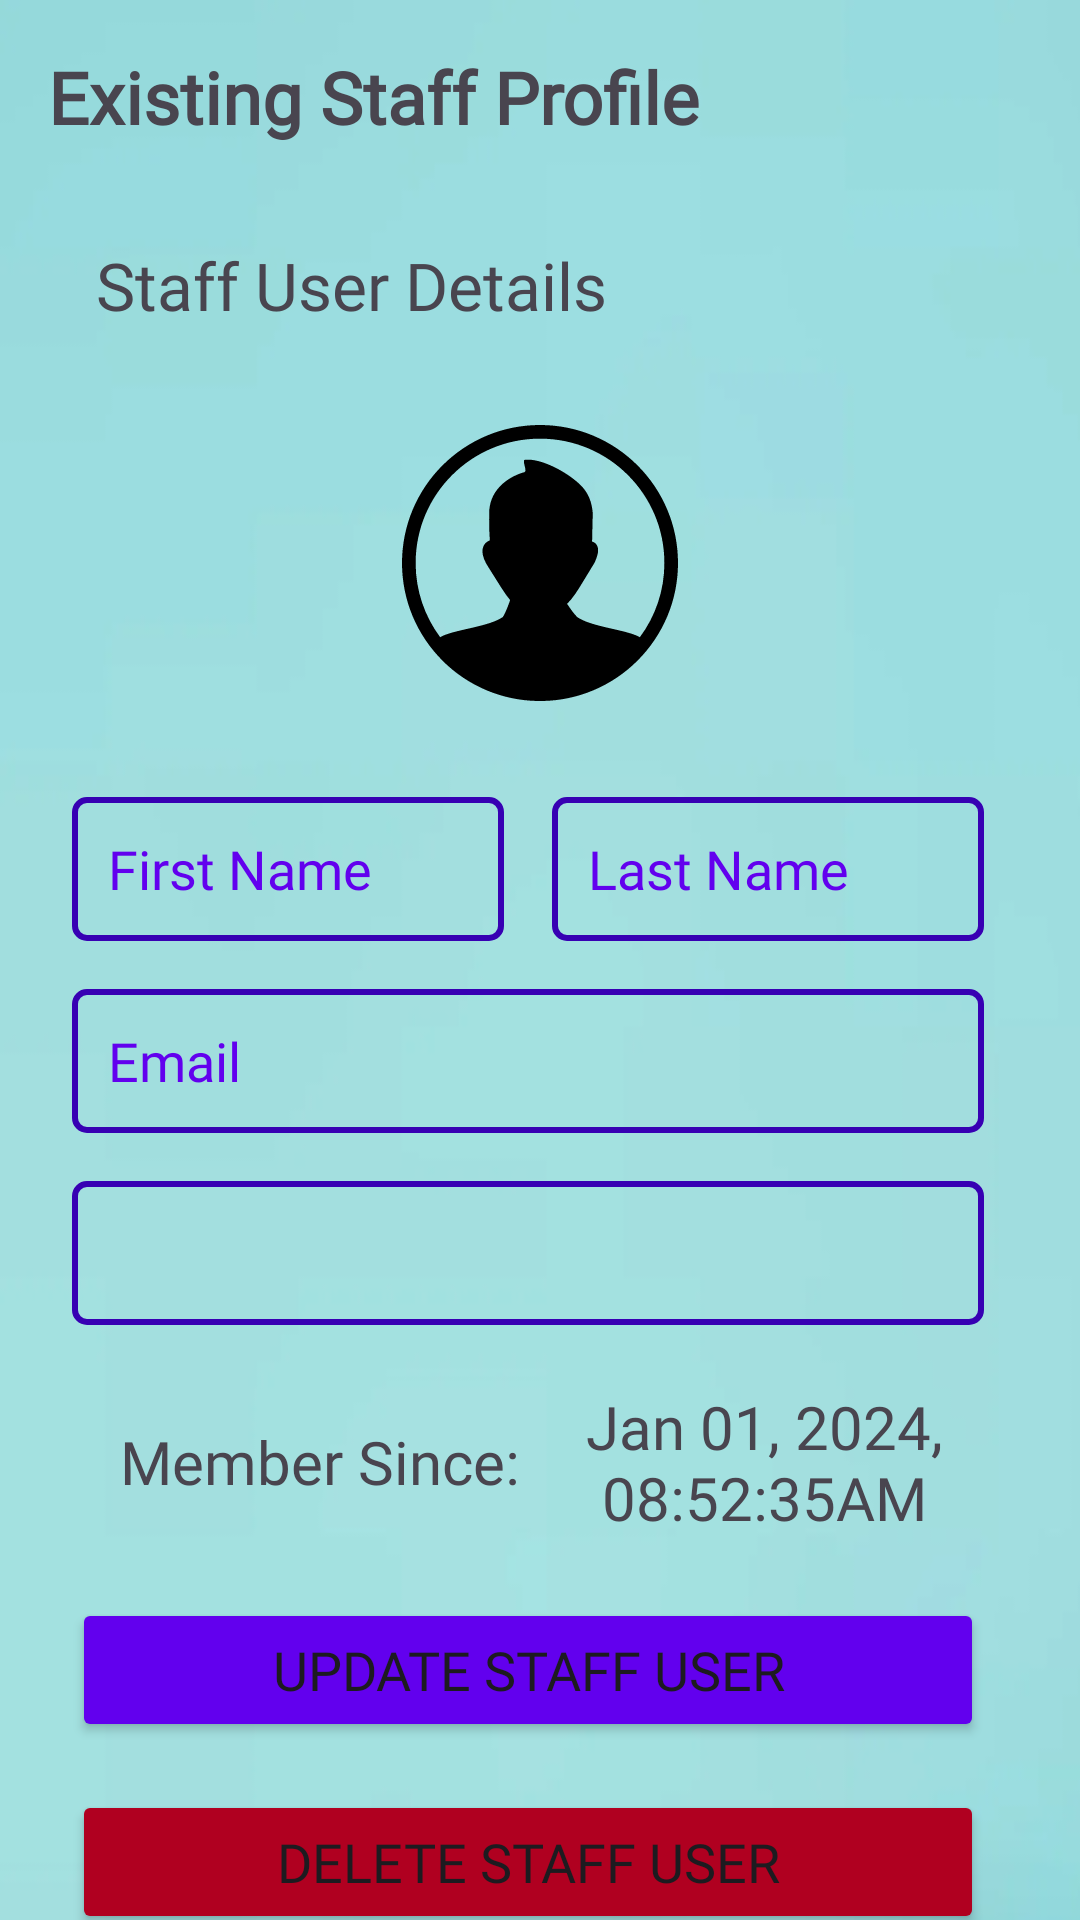

Screen size 1080w x 1920h. Icon name, then its center in pixels as (x,y):
profile: (540,563)
